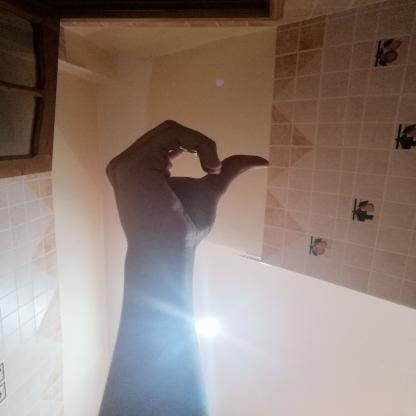WAW: (91, 109, 282, 266)
